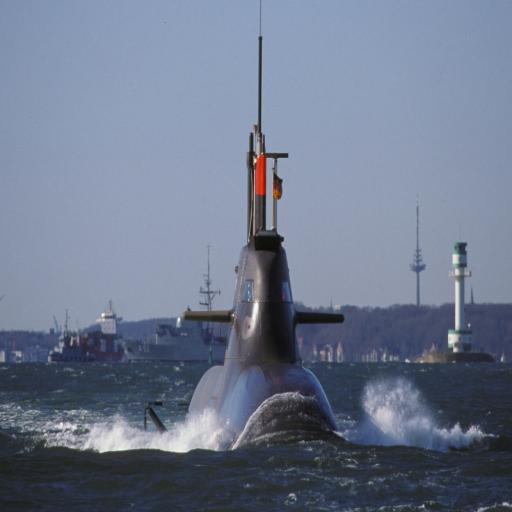submarine: (155, 2, 338, 446)
